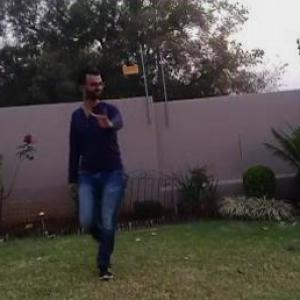takeoff-hand: (84, 99, 118, 136)
